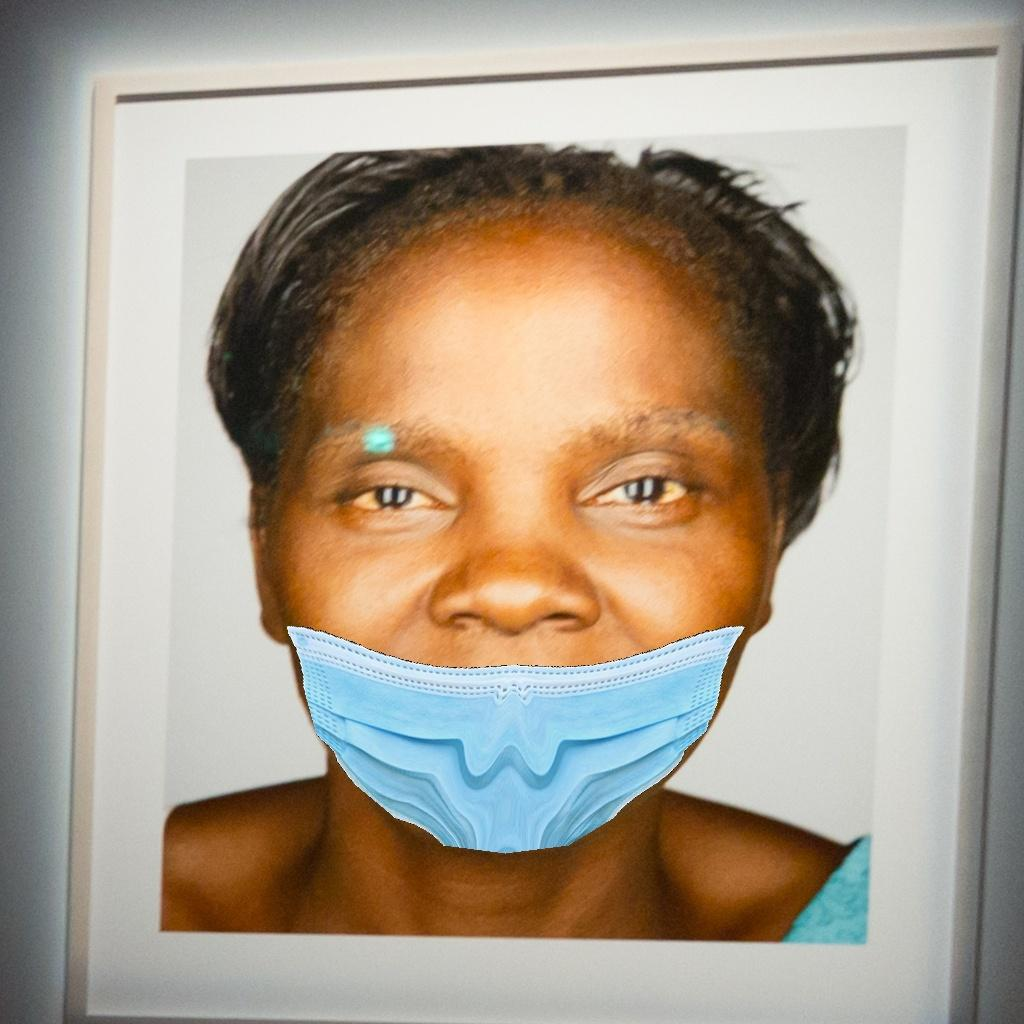Máscara Incorreta: (259, 310, 754, 839)
